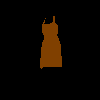vestito: (39, 15, 62, 68)
